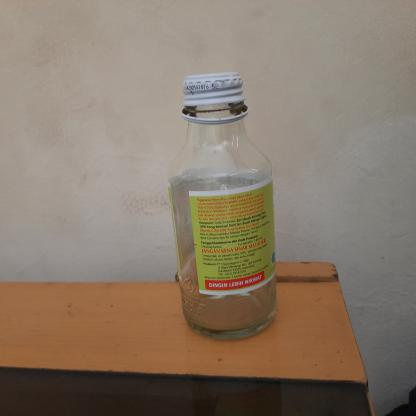keyboard: (164, 58, 282, 340)
